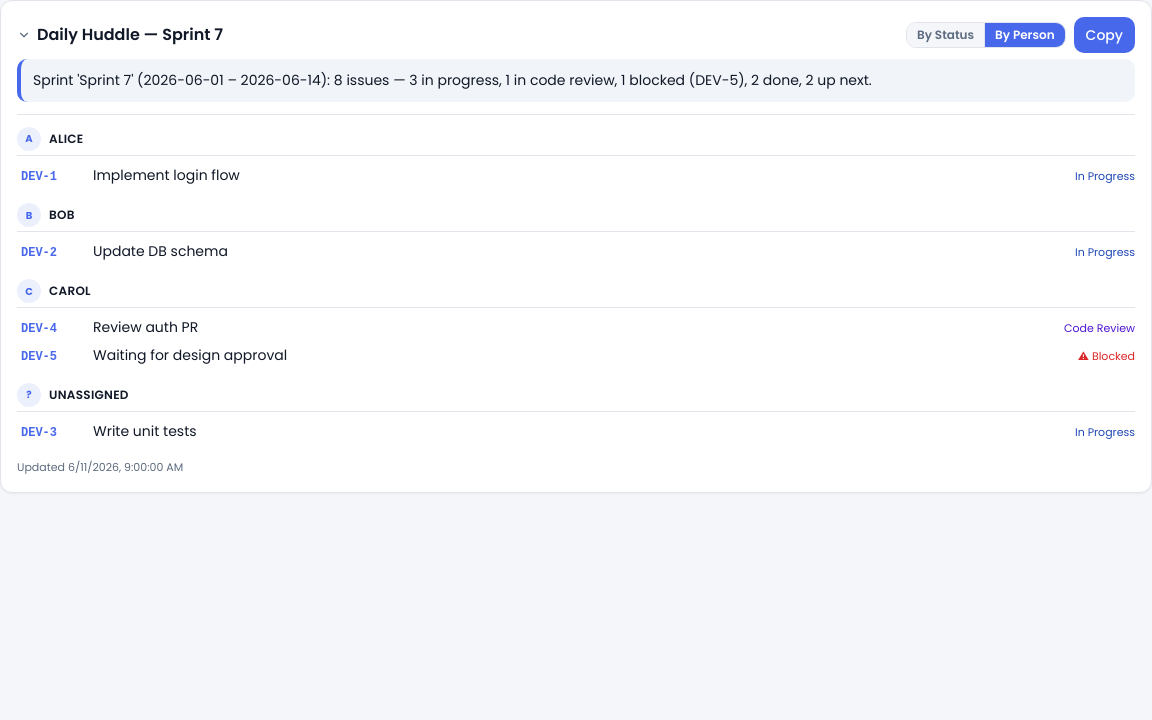
Scenario: HuddleDigest › renders the Done section with items
The width and height of the screenshot is (1152, 720).
Click the tab "By Status".
click(946, 35)  # box x1=907 y1=23 x2=984 y2=47
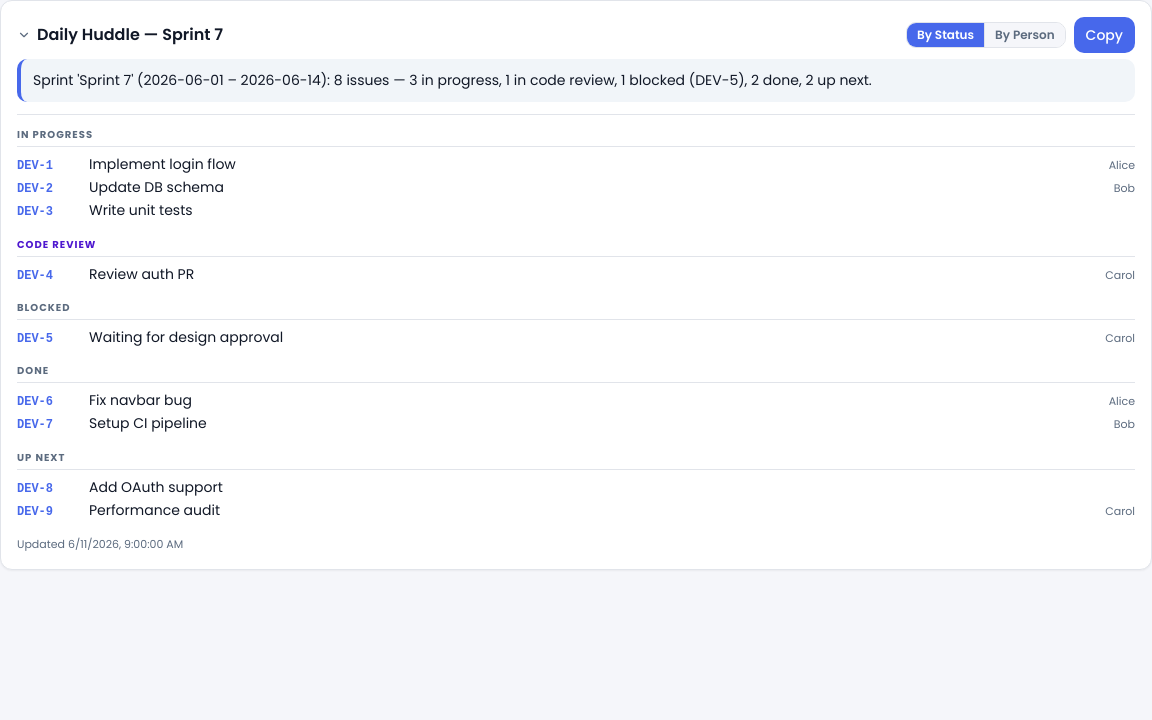
Result: the text "DEV-6" is shown at x1=17 y1=395 x2=53 y2=409
Result: the text "Fix navbar bug" is shown at x1=89 y1=390 x2=192 y2=410
